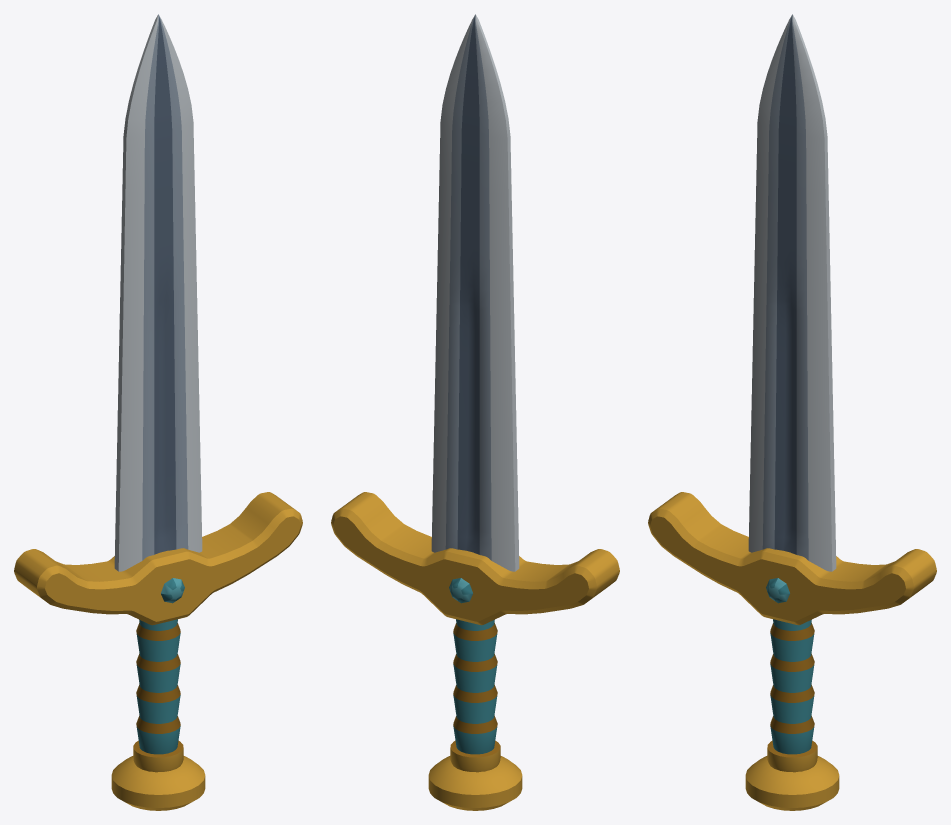
The model's file is Longsword_20.glb.
The picture shows the model from 3 angles, left to right: view 1: azimuth 30°, elevation 25°; view 2: azimuth 150°, elevation 25°; view 3: azimuth 330°, elevation 25°; orthographic projection.
Visible parts, largest first — view 1: Longsword_20; view 2: Longsword_20; view 3: Longsword_20.
Part boxes in pixels (bbox=[...]): Longsword_20: bbox=[14, 14, 302, 810]; Longsword_20: bbox=[331, 14, 619, 810]; Longsword_20: bbox=[648, 14, 936, 810].
Bounding box in the file's own units: 2.35 × 6.59 × 0.7176.
